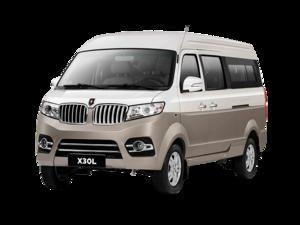Van: (28, 30, 271, 191)
